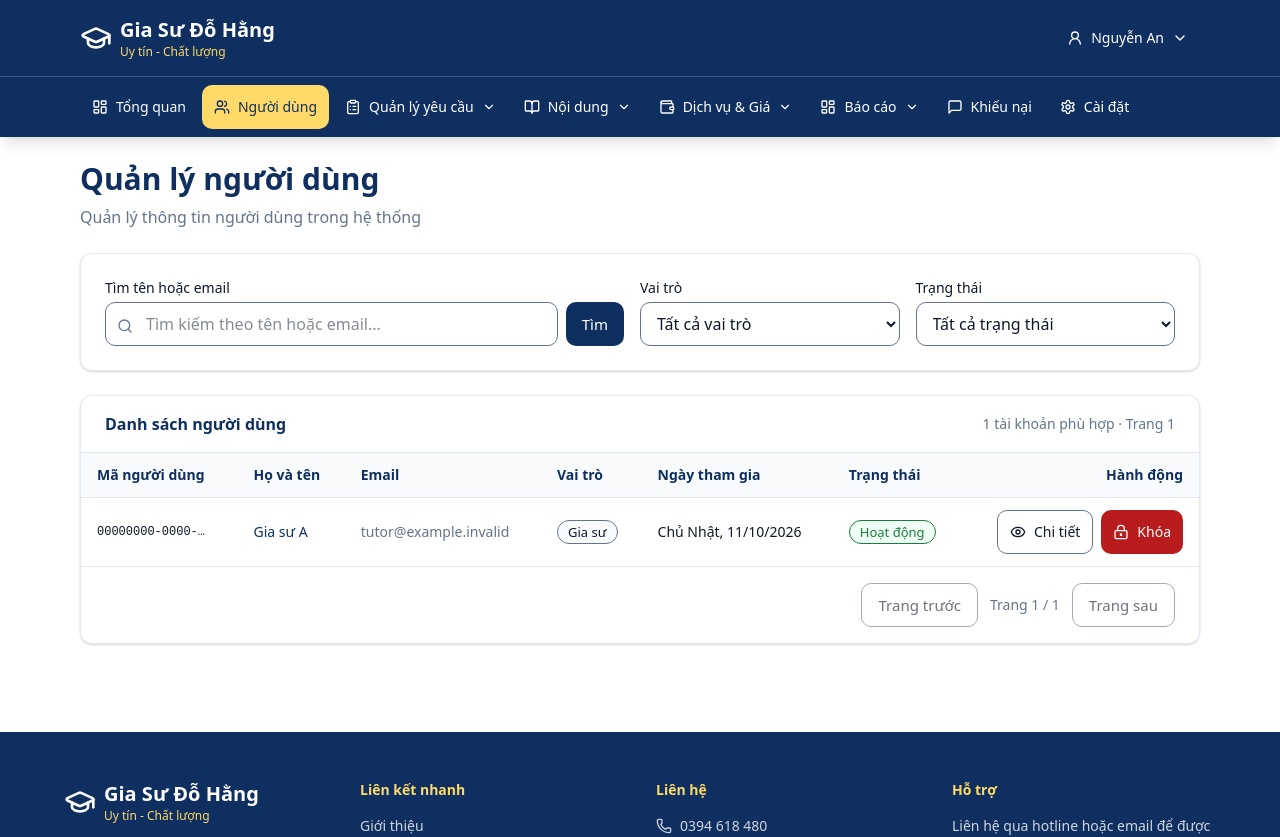
Scenario: moderator user list › shows API users and only supported account details
Expected: the text "1 tài khoản phù hợp · Trang 1" is shown, [983,414,1175,434]
Expected: the text "Gia sư A" is shown, [238,498,345,566]
Click the button "Chi tiết" at [1045, 532], box [997,510,1093,554]
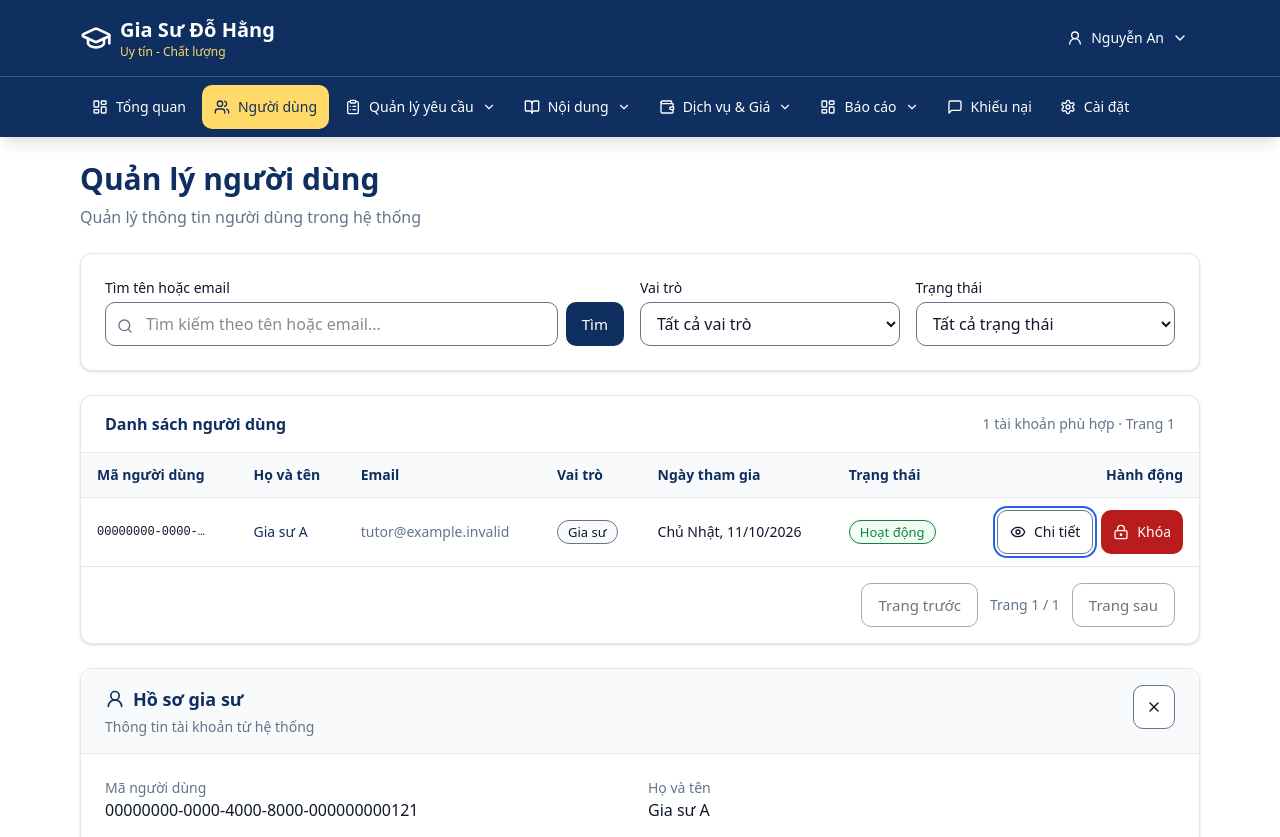
Expected: the text "00000000-0000-4000-8000-000000000121" below "Danh sách người dùng" is shown, [97,525,356,539]
Result: the heading "Hồ sơ gia sư" is shown at [105,687,244,711]
